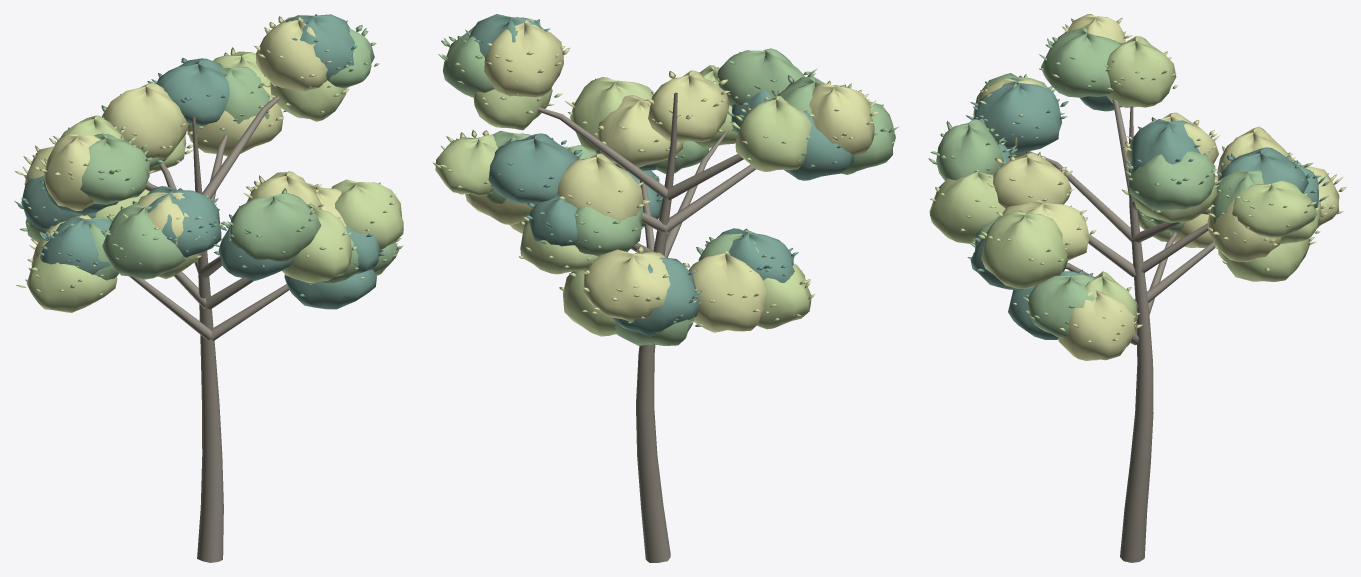
Rendered from maple_high.glb.
The picture shows the model from 3 angles, left to right: view 1: azimuth 30°, elevation 25°; view 2: azimuth 150°, elevation 25°; view 3: azimuth 270°, elevation 25°; orthographic projection. The views are drawn at different scales.
Parts seen in each view (by area): view 1: maple_high; view 2: maple_high; view 3: maple_high.
Part boxes in pixels (x1,y1,x2,y2): maple_high: (14,14,403,562); maple_high: (432,14,899,562); maple_high: (928,14,1346,562).
Bounding box in the file's own units: 7.36 × 9.54 × 7.32.
